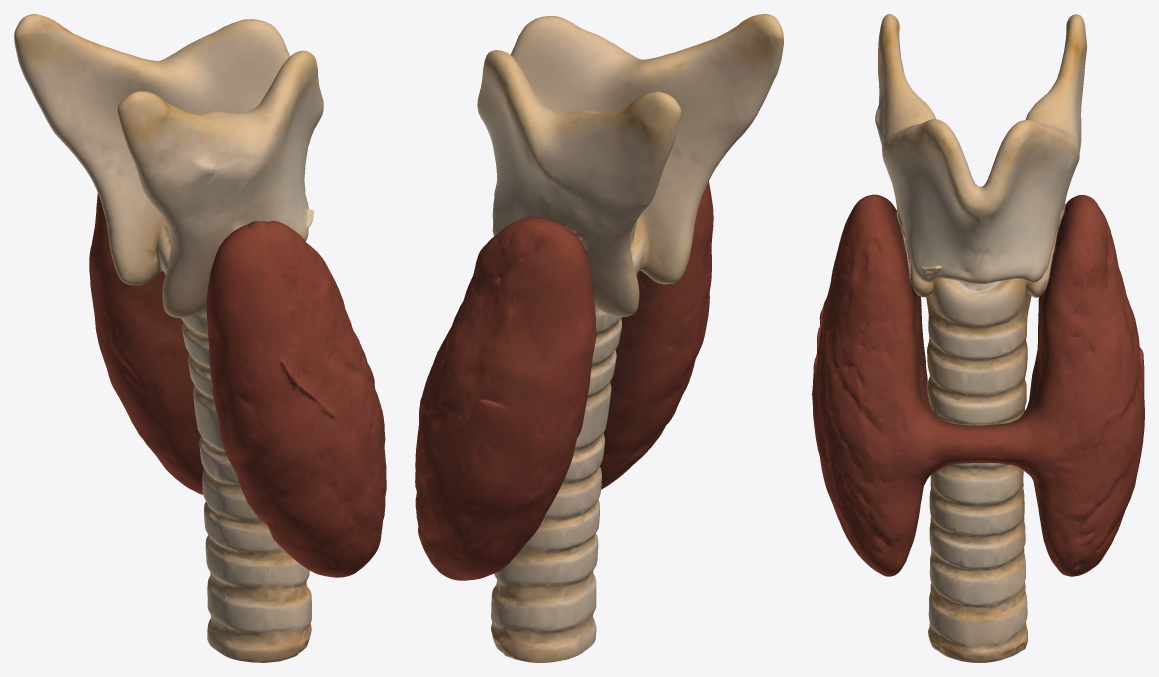
Rendered from thyroid.glb.
3 renders of one model, left to right at view 1: azimuth 30°, elevation 25°; view 2: azimuth 150°, elevation 25°; view 3: azimuth 270°, elevation 25°, orthographic. The views are drawn at different scales.
Parts seen in each view (by area): view 1: tripo_node_5cf35f5d-ad2b-40d0-a6f7-9778d67b4835; view 2: tripo_node_5cf35f5d-ad2b-40d0-a6f7-9778d67b4835; view 3: tripo_node_5cf35f5d-ad2b-40d0-a6f7-9778d67b4835.
Boxes of the visible parts, x1,y1,x2,y2 form: tripo_node_5cf35f5d-ad2b-40d0-a6f7-9778d67b4835: (14,14,386,662); tripo_node_5cf35f5d-ad2b-40d0-a6f7-9778d67b4835: (415,14,783,662); tripo_node_5cf35f5d-ad2b-40d0-a6f7-9778d67b4835: (812,14,1144,662).
Bounding box in the file's own units: 0.4334 × 0.9999 × 0.5439.
Materials: 1 (1 with a texture image).
